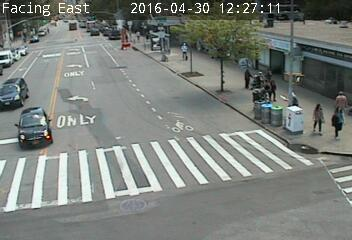neg: (169, 121, 188, 146), (284, 169, 302, 193), (51, 76, 69, 99), (296, 26, 313, 49), (48, 178, 65, 200), (138, 161, 154, 183), (205, 98, 221, 118), (189, 63, 204, 83), (257, 130, 272, 150), (8, 152, 23, 172), (79, 107, 93, 127), (141, 76, 155, 95), (111, 185, 125, 204), (75, 49, 89, 68), (111, 105, 125, 123), (314, 182, 328, 200), (91, 159, 105, 177), (228, 138, 241, 156), (232, 179, 245, 196), (198, 199, 211, 216), (124, 134, 136, 151), (109, 71, 121, 87), (20, 116, 32, 132), (35, 49, 47, 65), (8, 66, 20, 82), (196, 13, 208, 29), (228, 15, 240, 31), (74, 21, 85, 36), (265, 18, 276, 32), (57, 139, 67, 153), (180, 176, 190, 189), (272, 204, 282, 217), (26, 3, 36, 16), (1, 14, 10, 28), (152, 13, 161, 25), (63, 5, 70, 14)
pos: (326, 105, 350, 138), (307, 100, 331, 133), (334, 87, 350, 108), (268, 78, 283, 98), (287, 88, 301, 107), (237, 66, 251, 84), (177, 40, 191, 58)
